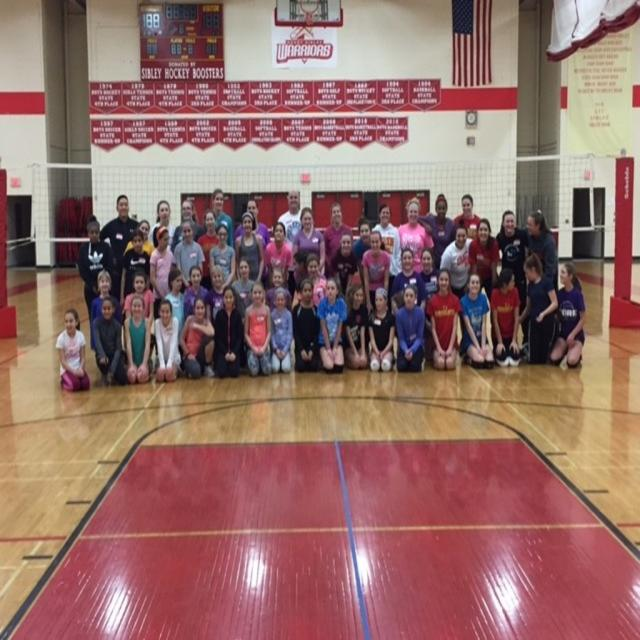body: (62, 372, 584, 432), (493, 208, 529, 349), (517, 248, 559, 366), (77, 214, 116, 330), (549, 259, 589, 369), (426, 267, 462, 371), (457, 271, 494, 371), (490, 266, 523, 369), (98, 194, 142, 268), (316, 274, 348, 375), (178, 295, 216, 380), (92, 294, 126, 388), (417, 191, 457, 270), (54, 306, 90, 393), (396, 195, 435, 275), (277, 188, 304, 302), (371, 202, 404, 294), (212, 284, 244, 378), (243, 278, 273, 378), (122, 293, 154, 385), (291, 277, 321, 373), (524, 208, 560, 288), (361, 230, 392, 322), (440, 218, 474, 301), (468, 217, 501, 302), (395, 284, 426, 372), (366, 285, 396, 374), (173, 217, 207, 295), (321, 200, 354, 280), (90, 270, 122, 352), (149, 224, 175, 322), (344, 282, 371, 371), (233, 210, 265, 285), (153, 299, 181, 384), (121, 228, 151, 306), (292, 206, 326, 274), (196, 210, 222, 292), (329, 230, 359, 301), (209, 223, 238, 296), (392, 246, 423, 314), (202, 187, 234, 249), (164, 268, 186, 358), (207, 262, 233, 338), (270, 286, 292, 373), (296, 251, 328, 308), (171, 198, 204, 252), (235, 198, 271, 246), (183, 264, 211, 322), (125, 273, 154, 329), (264, 221, 294, 275), (418, 246, 442, 308), (231, 257, 255, 317), (452, 193, 482, 238), (265, 268, 293, 314), (150, 199, 176, 247), (123, 219, 156, 255), (306, 255, 328, 307), (352, 218, 372, 262)
